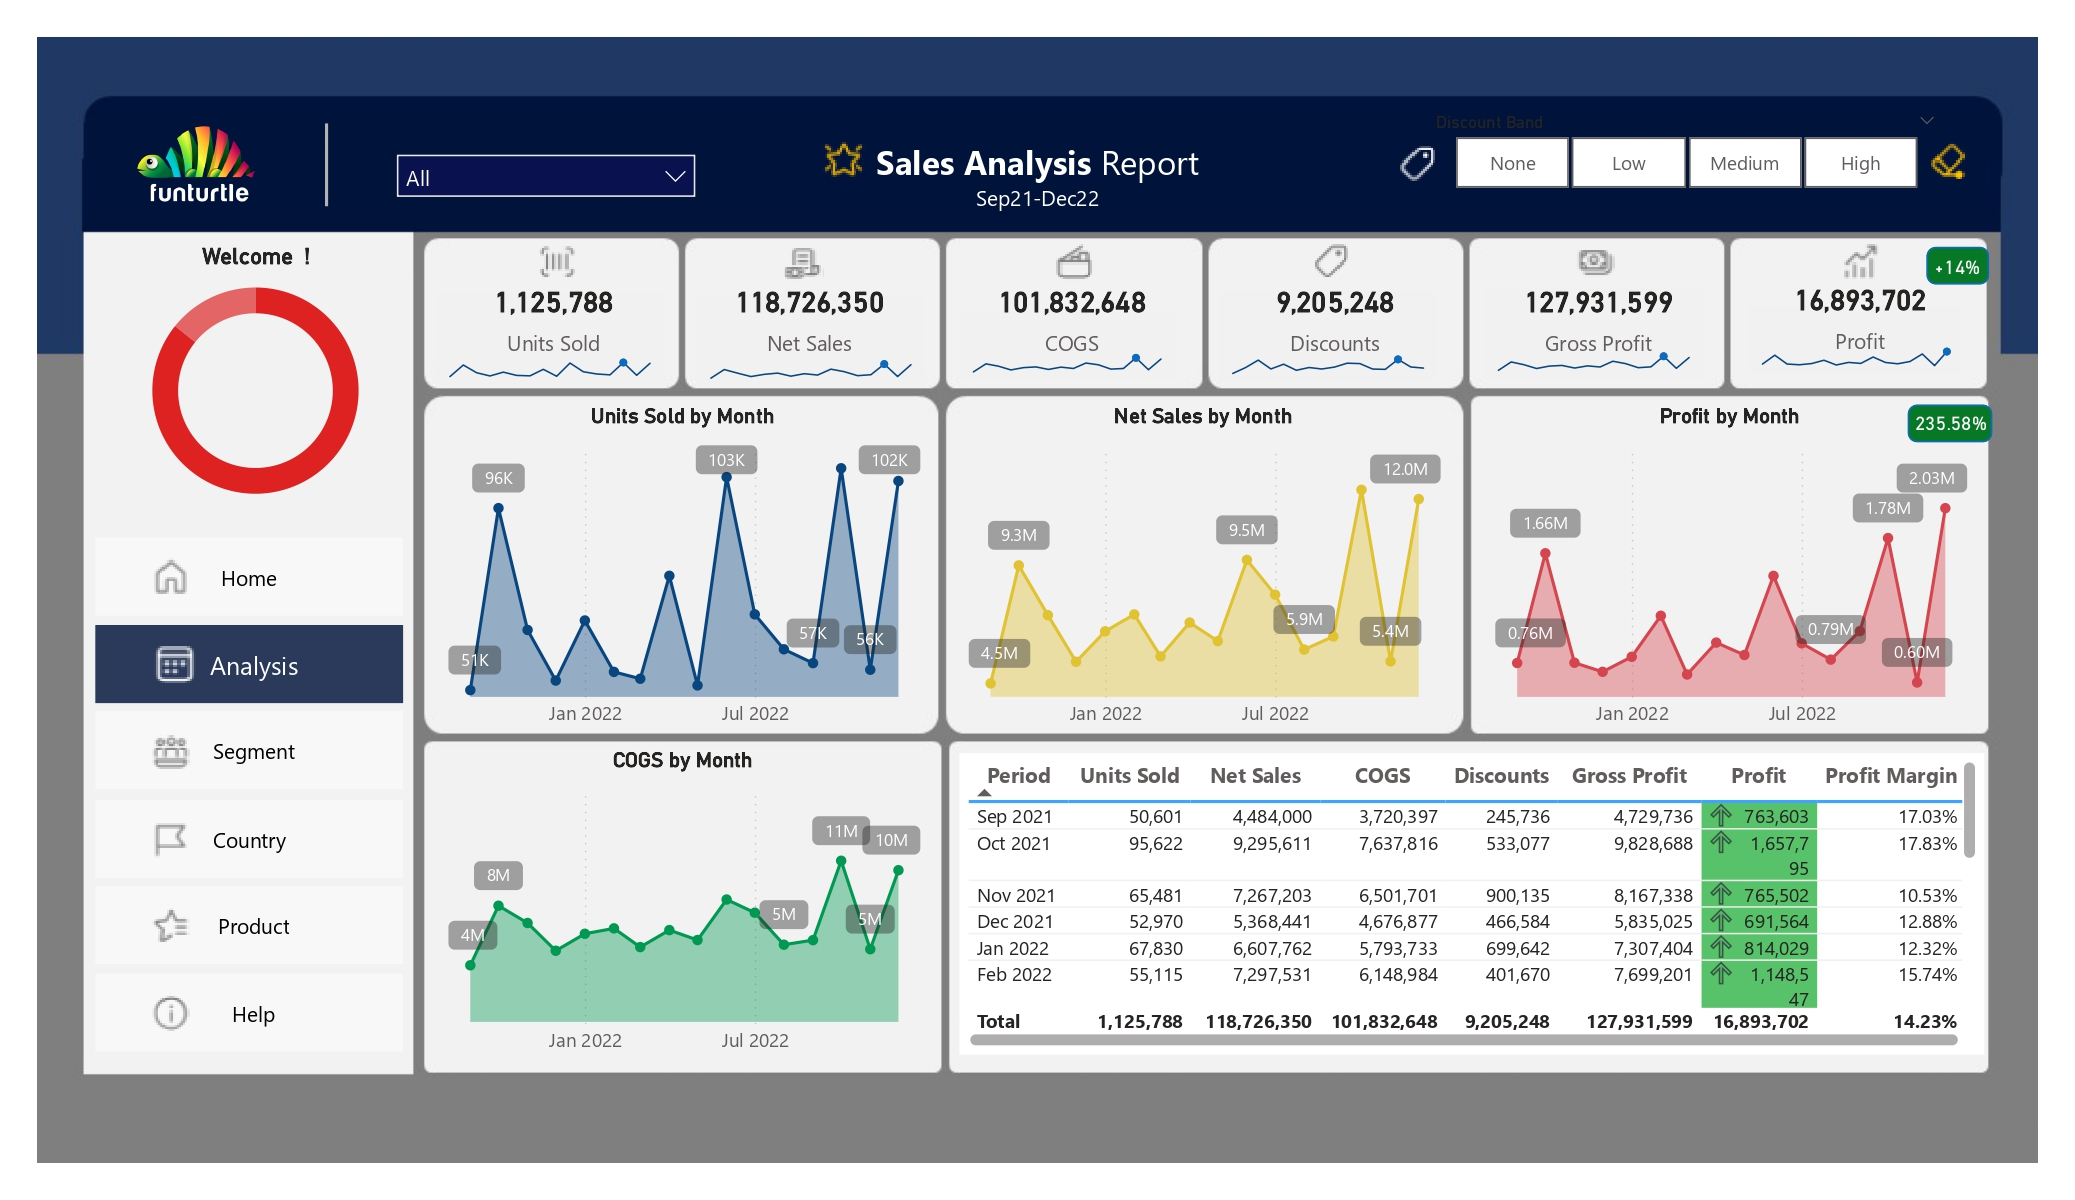

Layout of this report page (visuals, bound fields, positions):
{"tool":"powerbi","page":{"name":"Sale Analysis","canvas":[1280,720],"ordinal":1},"visuals":[{"type":"shape","box":[1197.5,235.4,53.2,24.1],"z":0},{"type":"shape","box":[1208.9,134.2,40.5,24.1],"z":1000},{"type":"tableEx","fields":{"Values":["SparklineData(_Calculations.Profit_[Calender.MonthInCalendar])"]},"box":[1088.5,167.2,163,59.5],"z":2000},{"type":"tableEx","fields":{"Values":["SparklineData(_Calculations.Gross Profit_[Calender.MonthInCalendar])"]},"box":[920,154.7,161.4,78.6],"z":3000},{"type":"tableEx","fields":{"Values":["SparklineData(_Calculations.Discounts_[Calender.MonthInCalendar])"]},"box":[750,157.1,161.4,78.6],"z":4000},{"type":"tableEx","fields":{"Values":["SparklineData(_Calculations.Net Sales_[Calender.MonthInCalendar])"]},"box":[415.7,160.4,167.1,68.6],"z":5000},{"type":"tableEx","fields":{"Values":["SparklineData(_Calculations.COGS_[Calender.MonthInCalendar])"]},"box":[584.3,171.4,165.7,55.7],"z":6000},{"type":"tableEx","fields":{"Values":["SparklineData(_Calculations.Units Sold_[Calender.MonthInCalendar])"]},"box":[248.6,158.6,167.1,68.6],"z":7000},{"type":"image","box":[52.9,27.1,97.1,107.1],"z":8000},{"type":"textbox","box":[506.1,59.5,267.9,42.5],"z":9000},{"type":"textbox","box":[557,89.3,165.8,45.4],"z":10000},{"type":"slicer","fields":{"Values":["Managers.First Name"]},"box":[219.7,65.2,211.2,46.8],"z":11000},{"type":"shape","box":[150.2,55.3,69.4,52.4],"z":12000},{"type":"actionButton","box":[498.9,60.9,38.3,34],"z":13000},{"type":"slicer","fields":{"Values":["Sales.Discount Band"]},"box":[881.6,42.5,345.8,60.9],"z":14000},{"type":"actionButton","box":[866,63.8,38.3,34],"z":15000},{"type":"actionButton","box":[1206.1,62.4,38.3,34],"z":16000},{"type":"card","fields":{"Values":["_Calculations.Units Sold"]},"box":[254.3,150.4,152.9,55.7],"z":17000},{"type":"card","fields":{"Values":["_Calculations.Gross Profit"]},"box":[918.3,150.4,161.4,55.7],"z":18000},{"type":"card","fields":{"Values":["_Calculations.Discounts"]},"box":[749.4,150.4,162.9,55.7],"z":19000},{"type":"card","fields":{"Values":["_Calculations.COGS"]},"box":[580.6,150.4,162.9,55.7],"z":20000},{"type":"card","fields":{"Values":["_Calculations.Profit"]},"box":[1085.7,149.4,161.4,55.7],"z":21000},{"type":"card","fields":{"Values":["_Calculations.Net Sales"]},"box":[413.1,150.4,161.4,55.7],"z":22000},{"type":"lineChart","title":"Units Sold by Month","fields":{"Y":["_Calculations.Units Sold"],"Category":["Calender.Date.Variation.Date Hierarchy.Year","Calender.Date.Variation.Date Hierarchy.Month"]},"box":[248,235.3,330.2,215.4],"z":23000},{"type":"lineChart","title":"Net Sales by Month","fields":{"Category":["Calender.Date.Variation.Date Hierarchy.Year","Calender.Date.Variation.Date Hierarchy.Month"],"Y":["_Calculations.Net Sales"]},"box":[581.1,235.3,330.2,215.4],"z":24000},{"type":"lineChart","title":"Profit by Month","fields":{"Category":["Calender.Date.Variation.Date Hierarchy.Year","Calender.Date.Variation.Date Hierarchy.Month"],"Y":["_Calculations.Profit"]},"box":[917.7,235.4,330.4,215.2],"z":25000},{"type":"lineChart","title":"COGS by Month","fields":{"Category":["Calender.Date.Variation.Date Hierarchy.Year","Calender.Date.Variation.Date Hierarchy.Month"],"Y":["_Calculations.COGS"]},"box":[248,455,330.2,205.5],"z":26000},{"type":"tableEx","fields":{"Values":["Calender.MonthInCalendar","_Calculations.Units Sold","_Calculations.Net Sales","_Calculations.COGS","_Calculations.Discounts","_Calculations.Gross Profit","_Calculations.Profit","_Calculations.Profit Margin"]},"box":[589.6,457.8,656.2,192.8],"z":27000},{"type":"actionButton","box":[315.7,127.1,38.6,32.9],"z":28000},{"type":"actionButton","box":[474.3,127.1,38.6,32.9],"z":29000},{"type":"actionButton","box":[647.1,127.1,38.6,32.9],"z":30000},{"type":"actionButton","box":[811.4,127.1,38.6,32.9],"z":31000},{"type":"actionButton","box":[981.4,127.1,38.6,32.9],"z":32000},{"type":"actionButton","box":[1150,127.1,38.6,32.9],"z":33000},{"type":"actionButton","box":[37.1,320,197.1,50],"z":34000},{"type":"actionButton","box":[37.1,375.7,197.1,50],"z":35000},{"type":"actionButton","box":[37.1,431.4,197.1,50],"z":36000},{"type":"actionButton","box":[37.3,487.8,197.1,50],"z":37000},{"type":"actionButton","box":[37.3,543.5,197.1,50],"z":38000},{"type":"actionButton","box":[37.3,599.2,197.1,50],"z":39000},{"type":"pieChart","fields":{"Y":["_Calculations.Cost to Sales%","_Calculations.Profit Margin"]},"box":[52.4,137.5,174.3,177.2],"z":40000},{"type":"card","fields":{"Values":["_Calculations.Greetings"]},"box":[48.2,107.7,182.8,66.6],"z":41000},{"type":"card","fields":{"Values":["_Calculations.Profit Margin Format"]},"box":[1206.3,134.2,44.3,25.3],"z":42000},{"type":"card","fields":{"Values":["_Calculations.Profit YoY%"]},"box":[1192.4,234.2,64.6,25.3],"z":43000}]}

Visuals, with their boxes on the page's 1280x720 design canvas (x1, y1, x2, y2). These are canvas units, not pixel positions in the 2075x1200 screenshot, which may show the page scaled, cropped or inside an application window:
shape: Rect(1198, 235, 1251, 260)
shape: Rect(1209, 134, 1249, 158)
tableEx - SparklineData(_Calculations.Profit_[Calender.MonthInCalendar]): Rect(1088, 167, 1252, 227)
tableEx - SparklineData(_Calculations.Gross Profit_[Calender.MonthInCalendar]): Rect(920, 155, 1081, 233)
tableEx - SparklineData(_Calculations.Discounts_[Calender.MonthInCalendar]): Rect(750, 157, 911, 236)
tableEx - SparklineData(_Calculations.Net Sales_[Calender.MonthInCalendar]): Rect(416, 160, 583, 229)
tableEx - SparklineData(_Calculations.COGS_[Calender.MonthInCalendar]): Rect(584, 171, 750, 227)
tableEx - SparklineData(_Calculations.Units Sold_[Calender.MonthInCalendar]): Rect(249, 159, 416, 227)
image: Rect(53, 27, 150, 134)
textbox: Rect(506, 60, 774, 102)
textbox: Rect(557, 89, 723, 135)
slicer - Managers.First Name: Rect(220, 65, 431, 112)
shape: Rect(150, 55, 220, 108)
actionButton: Rect(499, 61, 537, 95)
slicer - Sales.Discount Band: Rect(882, 42, 1227, 103)
actionButton: Rect(866, 64, 904, 98)
actionButton: Rect(1206, 62, 1244, 96)
card - _Calculations.Units Sold: Rect(254, 150, 407, 206)
card - _Calculations.Gross Profit: Rect(918, 150, 1080, 206)
card - _Calculations.Discounts: Rect(749, 150, 912, 206)
card - _Calculations.COGS: Rect(581, 150, 744, 206)
card - _Calculations.Profit: Rect(1086, 149, 1247, 205)
card - _Calculations.Net Sales: Rect(413, 150, 574, 206)
"Units Sold by Month" lineChart: Rect(248, 235, 578, 451)
"Net Sales by Month" lineChart: Rect(581, 235, 911, 451)
"Profit by Month" lineChart: Rect(918, 235, 1248, 451)
"COGS by Month" lineChart: Rect(248, 455, 578, 660)
tableEx - Calender.MonthInCalendar x _Calculations.Units Sold: Rect(590, 458, 1246, 651)
actionButton: Rect(316, 127, 354, 160)
actionButton: Rect(474, 127, 513, 160)
actionButton: Rect(647, 127, 686, 160)
actionButton: Rect(811, 127, 850, 160)
actionButton: Rect(981, 127, 1020, 160)
actionButton: Rect(1150, 127, 1189, 160)
actionButton: Rect(37, 320, 234, 370)
actionButton: Rect(37, 376, 234, 426)
actionButton: Rect(37, 431, 234, 481)
actionButton: Rect(37, 488, 234, 538)
actionButton: Rect(37, 544, 234, 594)
actionButton: Rect(37, 599, 234, 649)
pieChart - _Calculations.Cost to Sales% x _Calculations.Profit Margin: Rect(52, 138, 227, 315)
card - _Calculations.Greetings: Rect(48, 108, 231, 174)
card - _Calculations.Profit Margin Format: Rect(1206, 134, 1251, 160)
card - _Calculations.Profit YoY%: Rect(1192, 234, 1257, 260)
